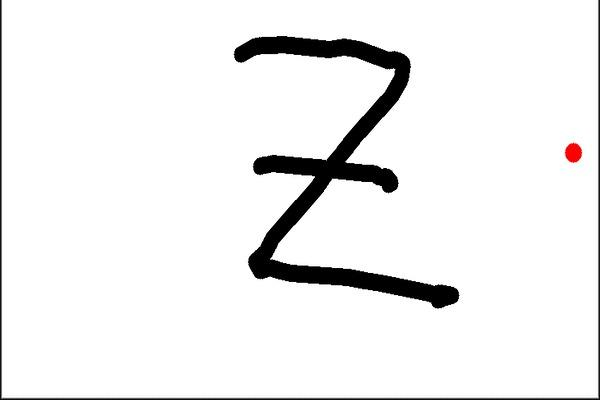Z: (228, 31, 467, 316)
